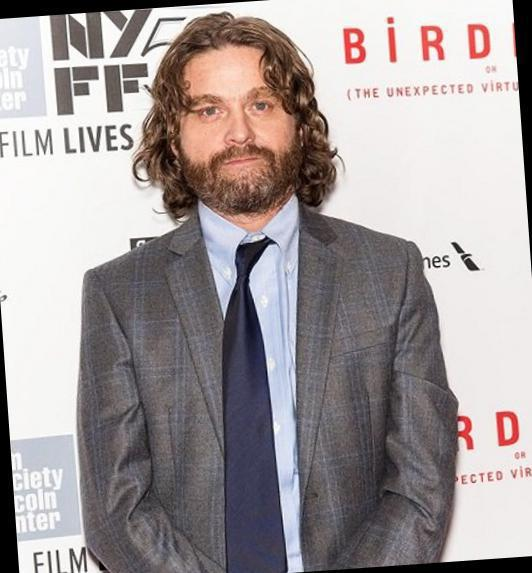Sober: (183, 62, 299, 191)
